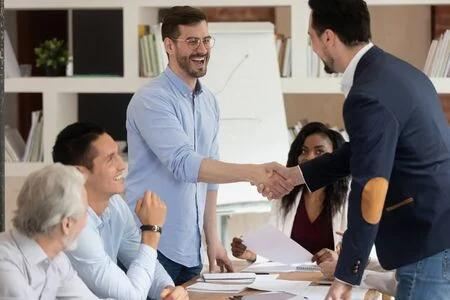No_Goggles: (301, 145, 327, 156)
